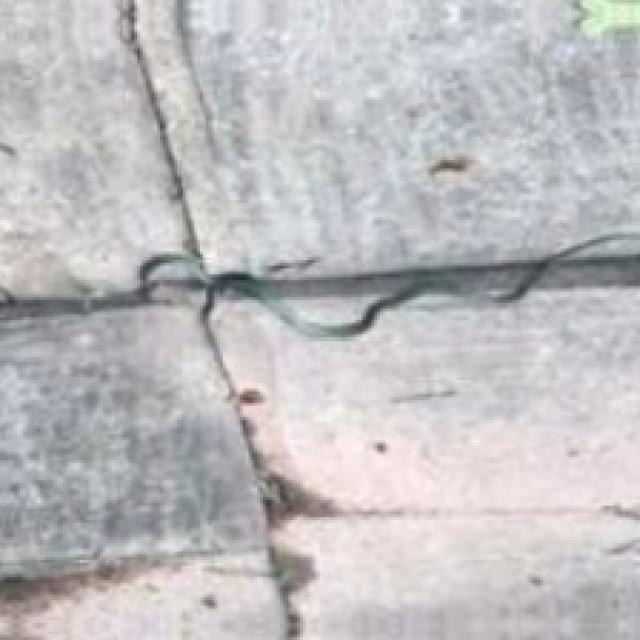paradise tree snake: (0, 0, 637, 320), (211, 260, 637, 637), (0, 306, 283, 637)
